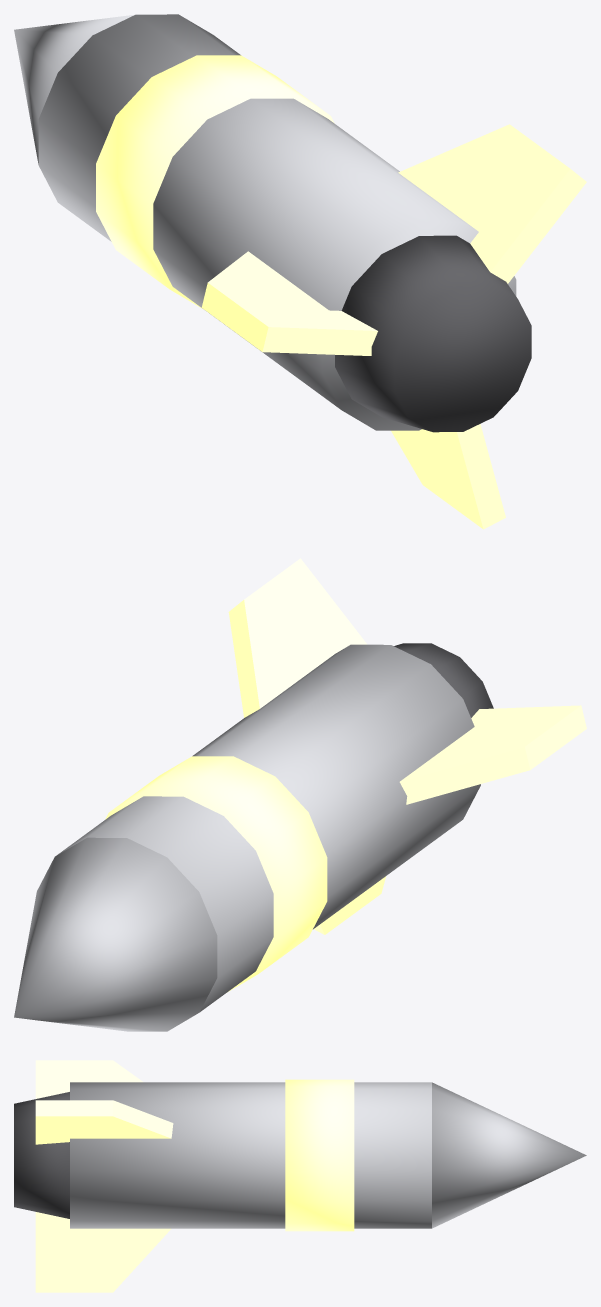
File: rakete_streu_r.glb
3 views of the same model, one above another, from view 1: azimuth 30°, elevation 25°; view 2: azimuth 150°, elevation 25°; view 3: azimuth 270°, elevation 25° (orthographic). The views are drawn at different scales.
Visible parts, largest first — view 1: Rumpf.001, Duese.001, Band, Flosse0.002, Flosse1.002, Flosse2.002, Nase.001; view 2: Rumpf.001, Nase.001, Band, Flosse0.002, Flosse1.002, Duese.001, Flosse2.002; view 3: Rumpf.001, Nase.001, Band, Flosse2.002, Duese.001, Flosse0.002, Flosse1.002.
Boxes of the visible parts, x1,y1,x2,y2 form: Rumpf.001: (38, 14, 516, 430); Duese.001: (335, 235, 531, 432); Band: (96, 55, 334, 309); Flosse0.002: (398, 124, 586, 283); Flosse1.002: (201, 251, 377, 355); Flosse2.002: (391, 424, 505, 529); Nase.001: (14, 14, 134, 164); Rumpf.001: (56, 644, 480, 1011); Nase.001: (14, 837, 217, 1031); Band: (105, 756, 327, 992); Flosse0.002: (228, 558, 367, 717); Flosse1.002: (399, 705, 586, 804); Duese.001: (394, 643, 493, 717); Flosse2.002: (314, 876, 386, 934); Rumpf.001: (70, 1082, 431, 1228); Nase.001: (432, 1082, 586, 1228); Band: (285, 1079, 354, 1231); Flosse2.002: (35, 1212, 170, 1292); Duese.001: (14, 1092, 69, 1218); Flosse0.002: (35, 1100, 173, 1144); Flosse1.002: (35, 1060, 143, 1098).
Bounding box in the file's own units: 0.2773 × 0.2773 × 0.665.
